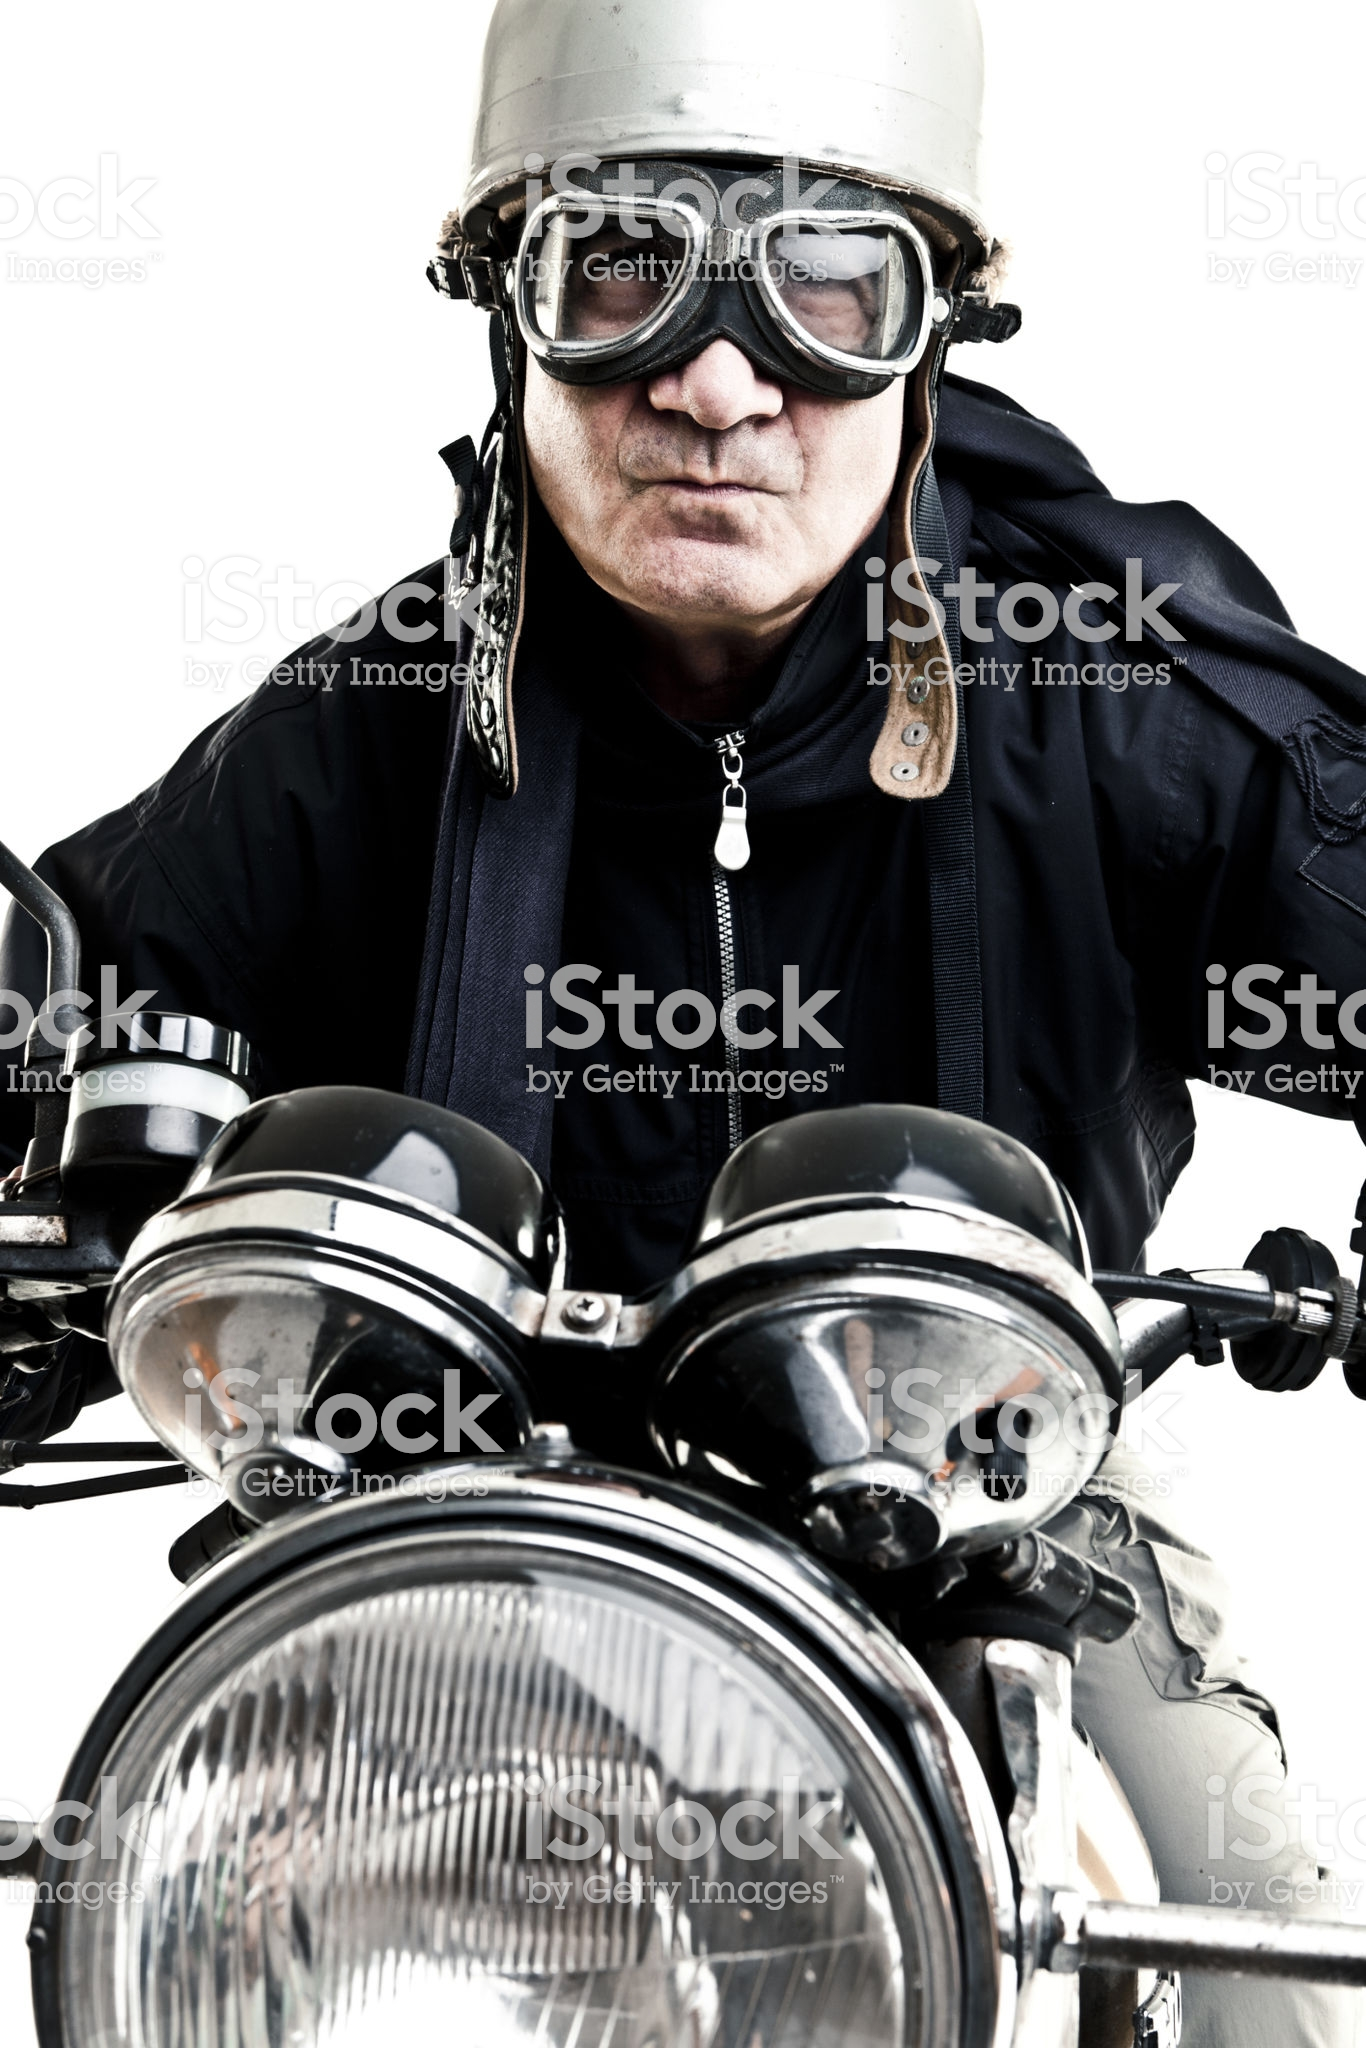helmet: (438, 38, 967, 315)
